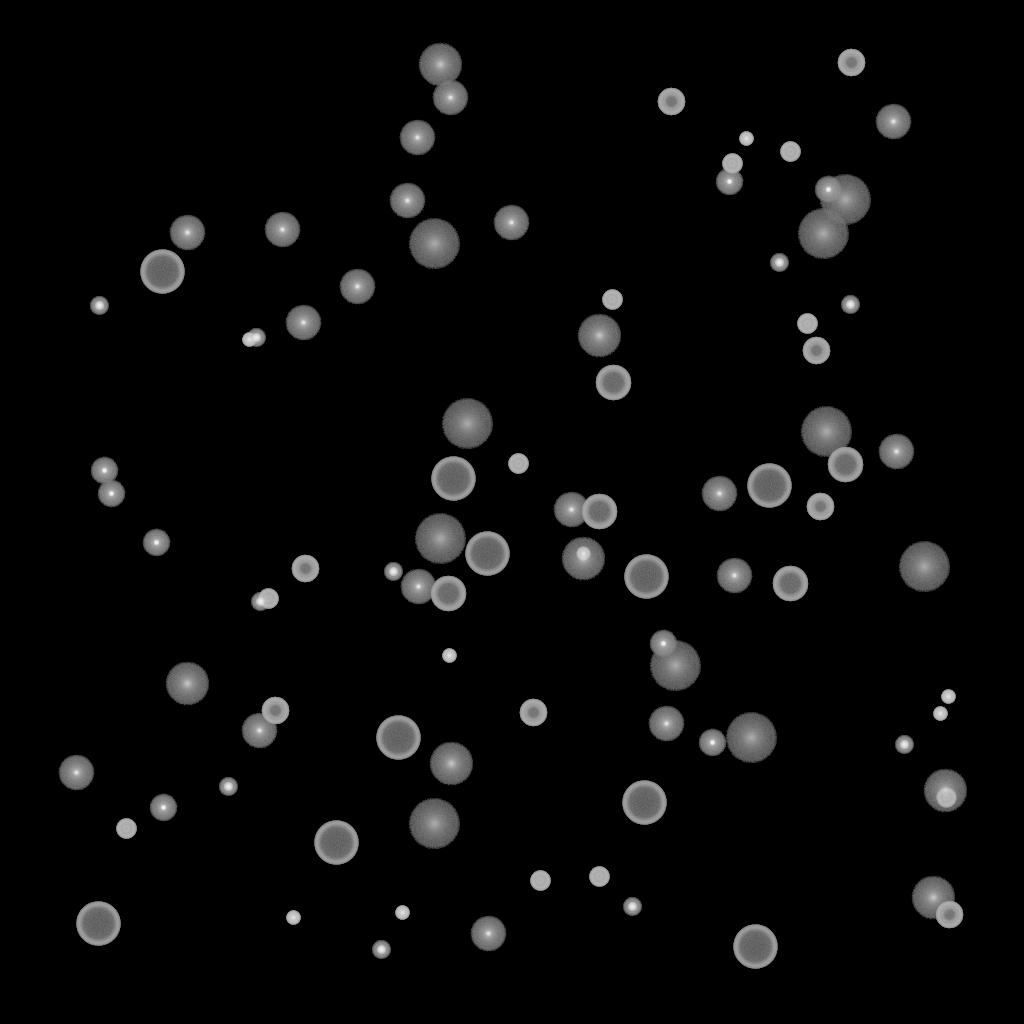depth:-10: (142, 529, 170, 557), (90, 457, 118, 485), (149, 794, 177, 822), (698, 729, 726, 757), (715, 168, 743, 196), (649, 630, 677, 658), (97, 480, 125, 508), (814, 176, 842, 204)
depth:-20: (841, 296, 859, 314), (623, 898, 641, 916), (770, 254, 788, 272), (247, 329, 265, 347), (251, 593, 269, 611), (384, 563, 402, 581), (219, 778, 237, 796), (895, 736, 913, 754), (90, 297, 108, 315), (372, 941, 390, 959)
depth:-30: (395, 906, 409, 920), (576, 547, 590, 561), (286, 911, 300, 925), (933, 707, 947, 721), (739, 132, 753, 146), (442, 649, 456, 663), (941, 690, 955, 704), (242, 333, 256, 347)
depth:-40: (258, 589, 278, 609), (780, 142, 800, 162), (589, 867, 609, 887), (508, 454, 528, 474), (116, 819, 136, 839), (722, 154, 742, 174), (530, 871, 550, 891), (797, 314, 817, 334), (602, 290, 622, 310), (936, 788, 956, 808)
depth:-50: (806, 493, 834, 521), (657, 88, 685, 116), (837, 49, 865, 77), (261, 697, 289, 725), (935, 901, 963, 929), (802, 337, 830, 365), (291, 555, 319, 583), (519, 699, 547, 727)
depth:-60: (430, 576, 466, 612), (595, 365, 631, 401), (827, 447, 863, 483), (581, 494, 617, 530), (772, 566, 808, 602)
depth:-70: (376, 716, 420, 760), (76, 902, 120, 946), (465, 532, 509, 576), (140, 250, 184, 294), (624, 555, 668, 599), (431, 457, 475, 501), (622, 781, 666, 825), (733, 925, 777, 969), (747, 464, 791, 508), (314, 821, 358, 865)
depth:0: (470, 916, 506, 952), (875, 104, 911, 140), (553, 492, 589, 528), (169, 215, 205, 251), (399, 120, 435, 156), (493, 205, 529, 241), (58, 755, 94, 791), (339, 269, 375, 305), (241, 713, 277, 749), (701, 476, 737, 512), (432, 80, 468, 116), (400, 569, 436, 605), (389, 183, 425, 219), (716, 558, 752, 594), (878, 434, 914, 470), (285, 305, 321, 341), (648, 706, 684, 742), (264, 212, 300, 248)
depth:10: (923, 769, 967, 813), (577, 314, 621, 358), (418, 43, 462, 87), (561, 537, 605, 581), (429, 742, 473, 786), (165, 662, 209, 706), (911, 876, 955, 920)
depth:20: (408, 799, 460, 849), (819, 175, 871, 225), (800, 407, 852, 457), (797, 209, 849, 259), (725, 713, 777, 763), (898, 542, 950, 592), (414, 514, 466, 564), (441, 399, 493, 449), (408, 219, 460, 269), (649, 641, 701, 691)
